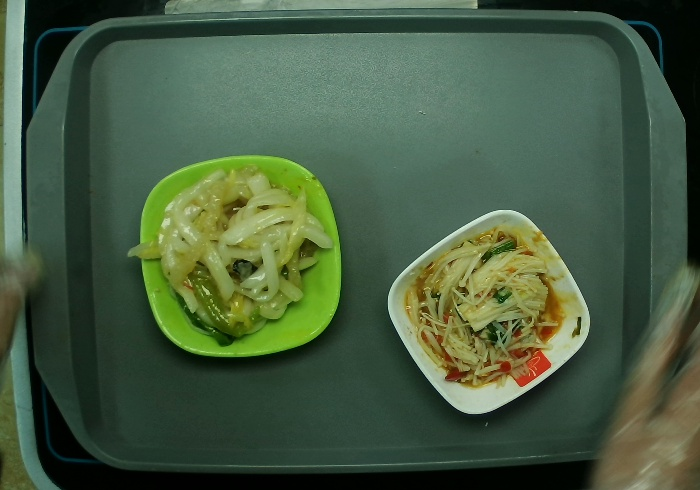SHKJ-Bai_Se_Xiao_Fang_Die: (386, 208, 592, 415)
SHKJ-Lv_Se_Cai_Die: (137, 153, 343, 359)
